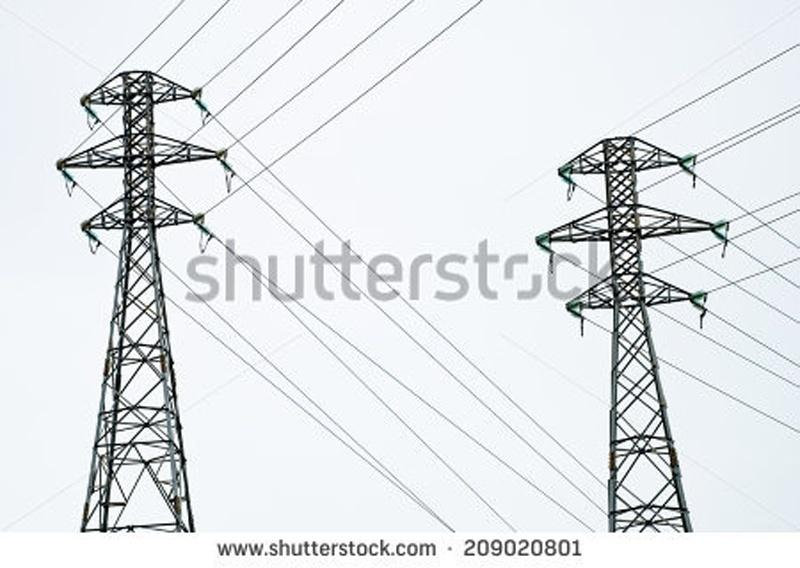power_tower: (46, 70, 241, 536), (537, 125, 722, 533)
